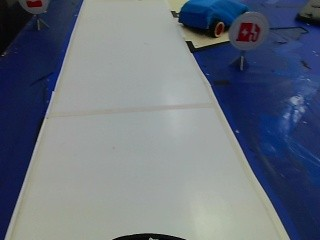battery: (227, 11, 271, 54)
